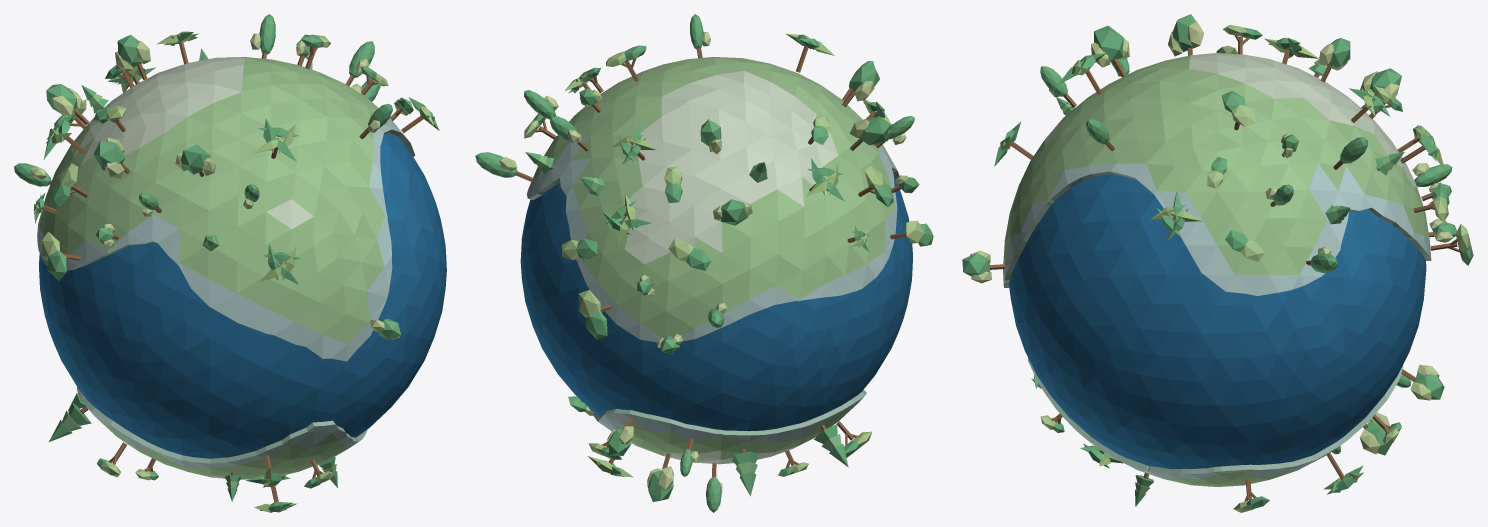
The model's file is earth.glb.
3 renders of one model, left to right at view 1: azimuth 30°, elevation 25°; view 2: azimuth 150°, elevation 25°; view 3: azimuth 270°, elevation 25°, orthographic. The views are drawn at different scales.
Visible parts, largest first — view 1: Terrain • modeled surfaces, Structures • modeled surfaces; view 2: Terrain • modeled surfaces, Structures • modeled surfaces; view 3: Terrain • modeled surfaces, Structures • modeled surfaces.
Part boxes in pixels (left/top/right/bottom): Terrain • modeled surfaces: left=37, top=57, right=446, bottom=479; Structures • modeled surfaces: left=14, top=14, right=439, bottom=512; Terrain • modeled surfaces: left=520, top=57, right=912, bottom=464; Structures • modeled surfaces: left=475, top=14, right=933, bottom=512; Terrain • modeled surfaces: left=1003, top=53, right=1431, bottom=486; Structures • modeled surfaces: left=962, top=14, right=1473, bottom=512.
Bounding box in the file's own units: 2.23 × 2.21 × 2.41.
